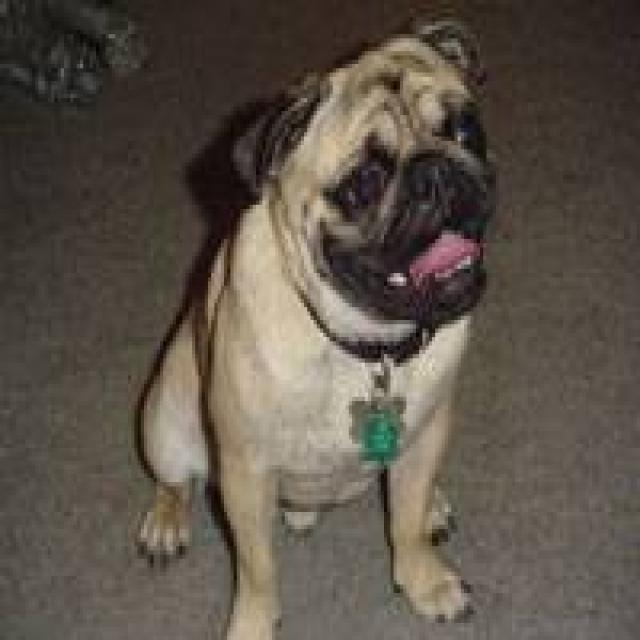dog-pug: (134, 13, 496, 631)
